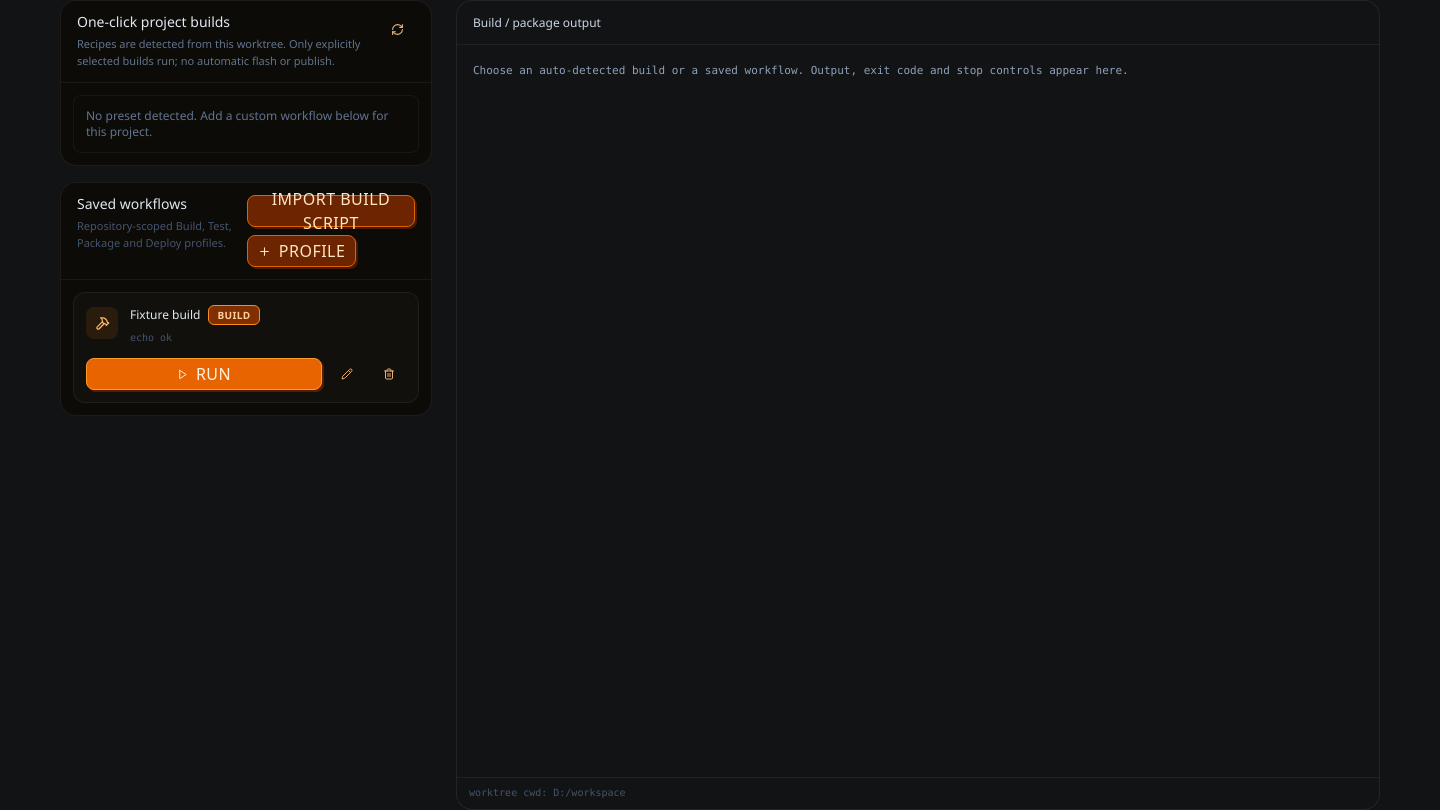
Test: ProcessRunner controls › runs and stops a structured profile
The width and height of the screenshot is (1440, 810).
Click the button "Run" at (204, 374), box [86,358,322,390]
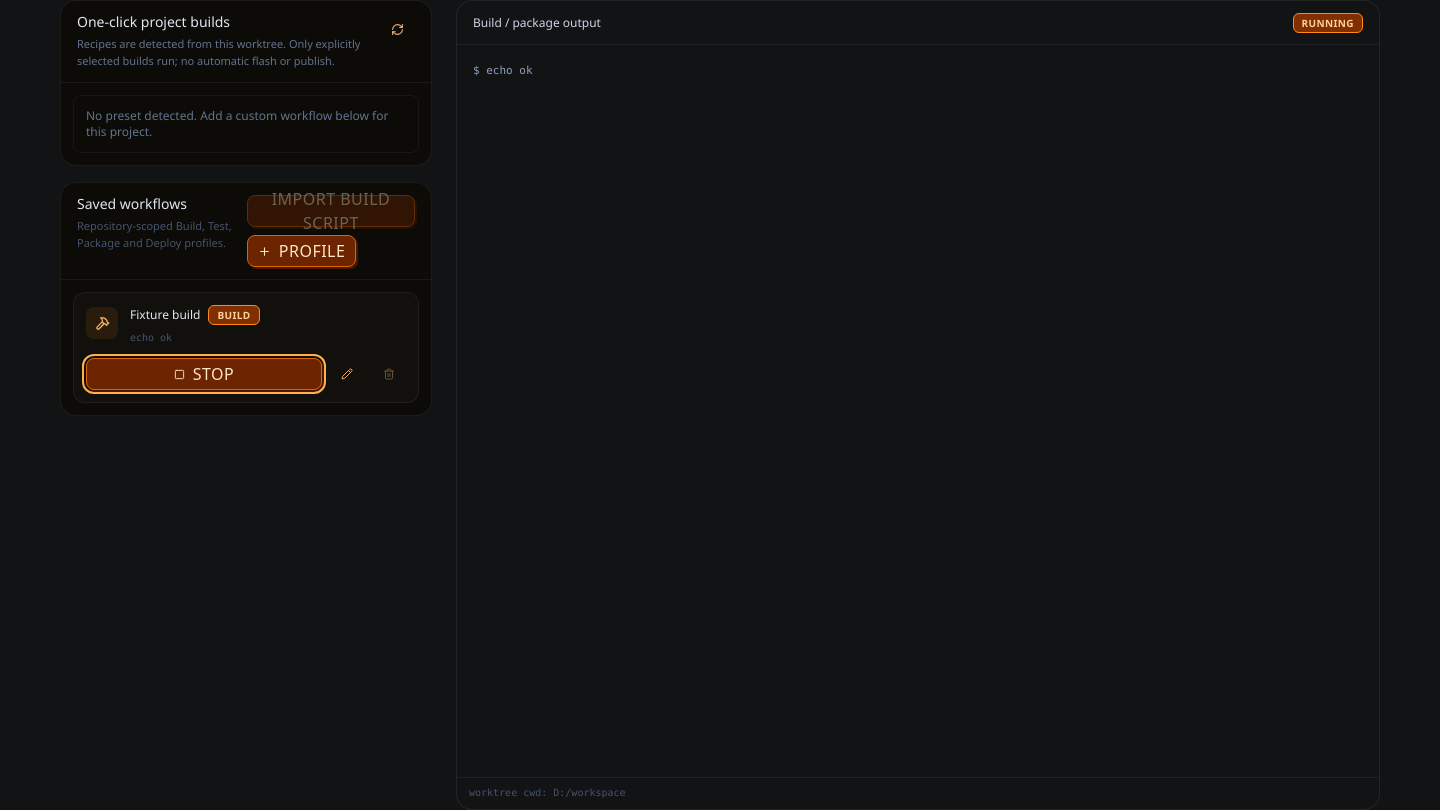
Click the button "Stop" at (204, 374), box [86,358,322,390]
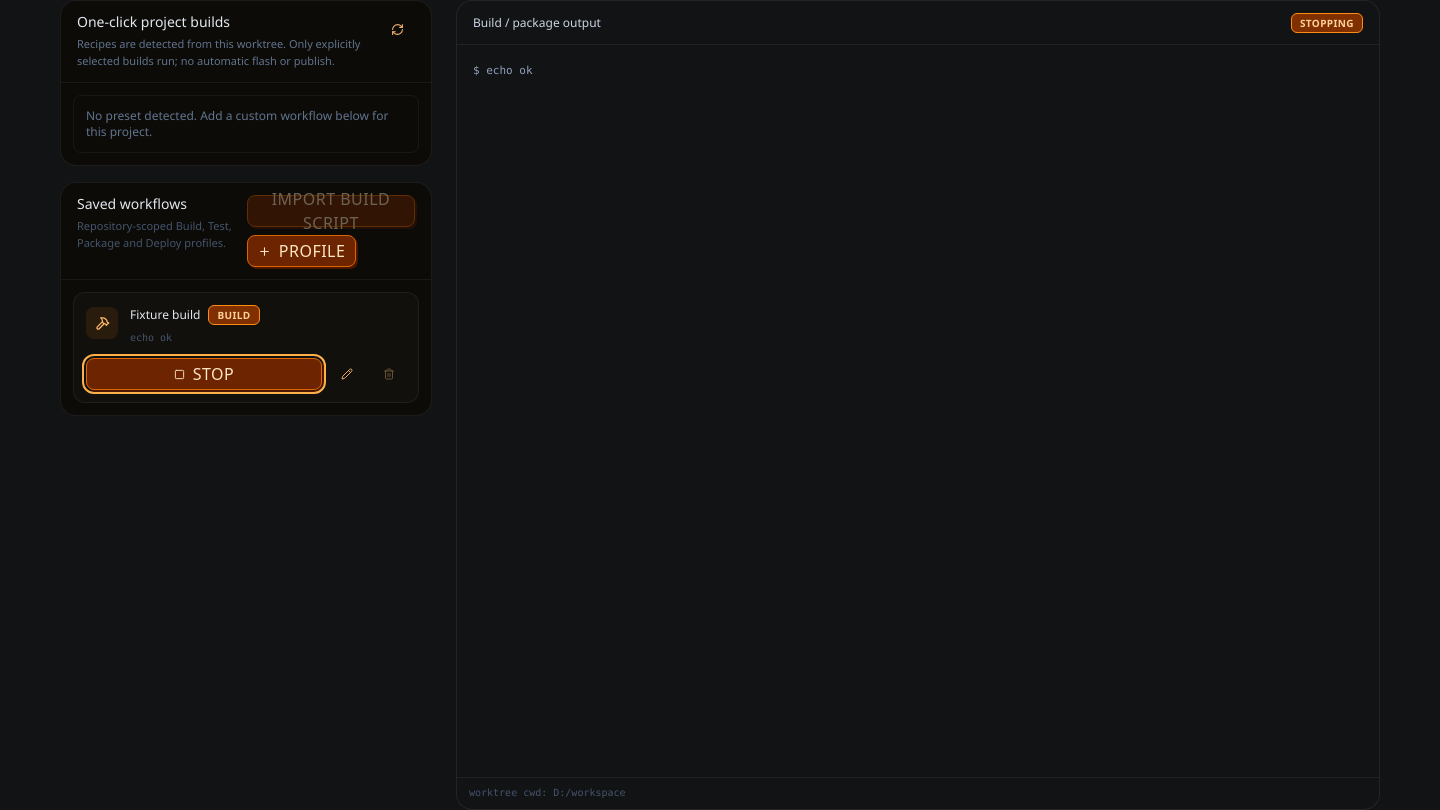
Expected: the text "stopping" is shown, [1291,12,1363,32]
